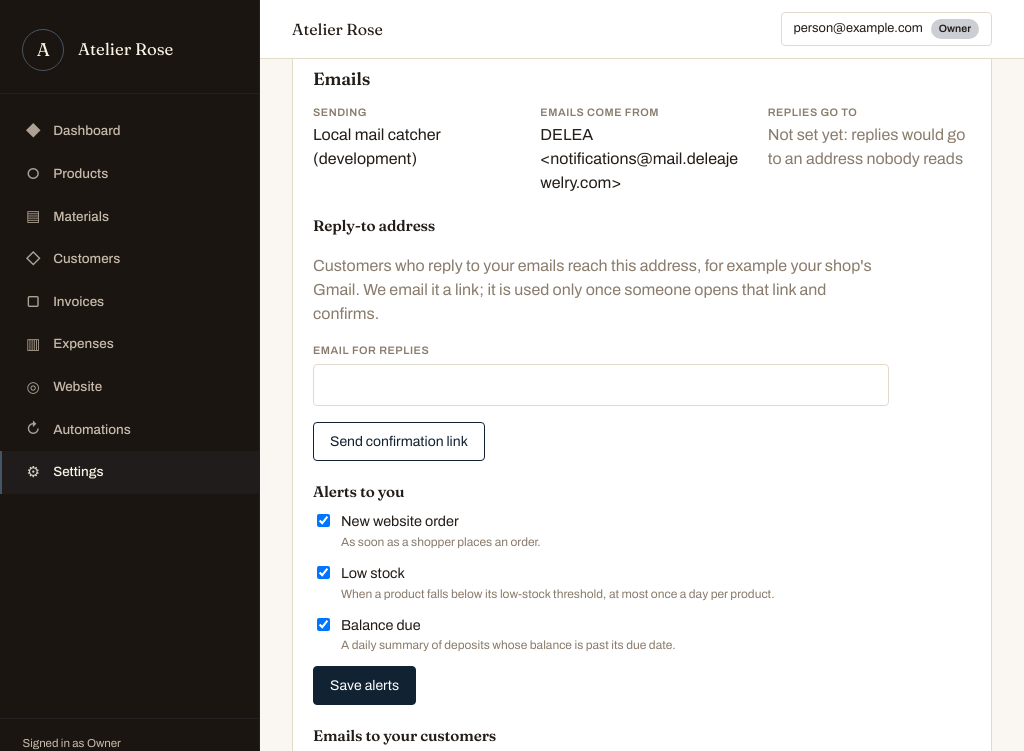
Test: settings › emails › asks for a reply-to address: checked first, then a confirmation link, shown as waiting
(page scrolled)
In the field labelled "Email for replies": (601,384) [313,364,889,406], type "not-an-email"
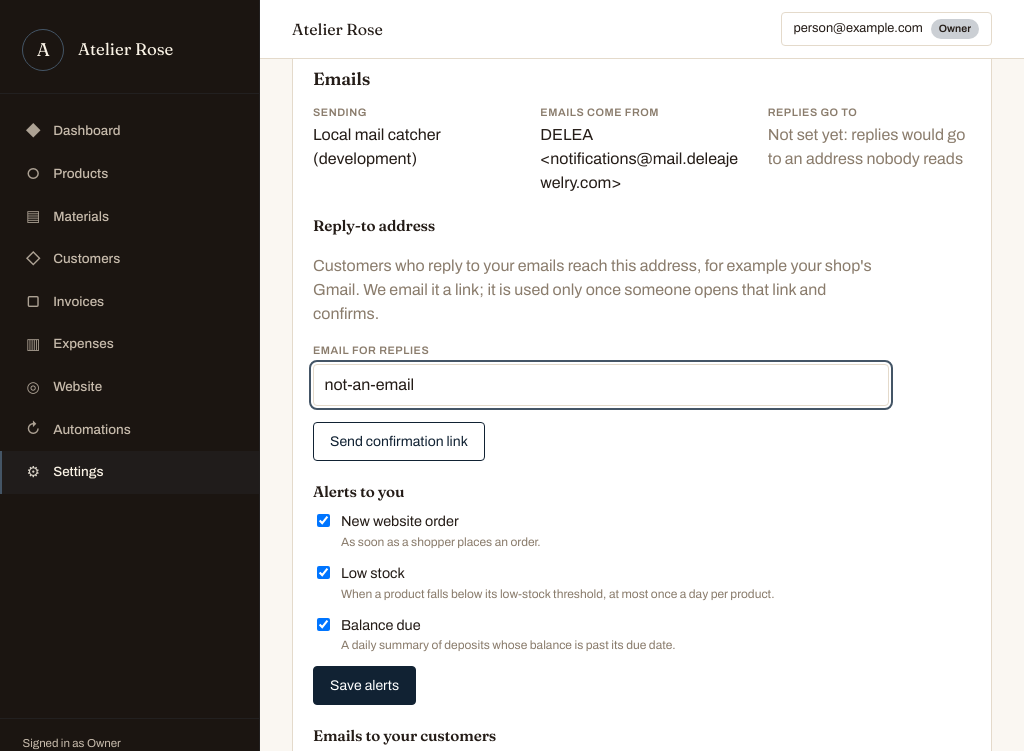
Click the button "Send confirmation link": (399,441) [313,422,485,460]
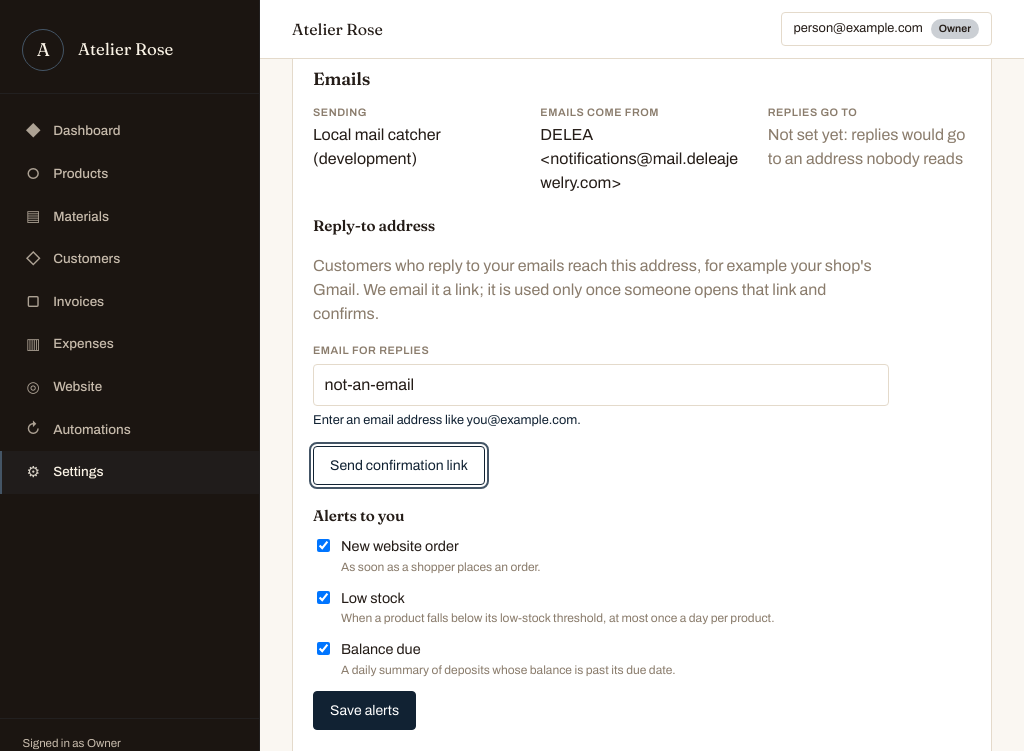
Check: the text "Enter an email address like you@example.com." is shown, box [313,413,581,427]
Replace the text in the field labelled "Email for replies" with "shop@gmail.com": (601,384) [313,364,889,406]
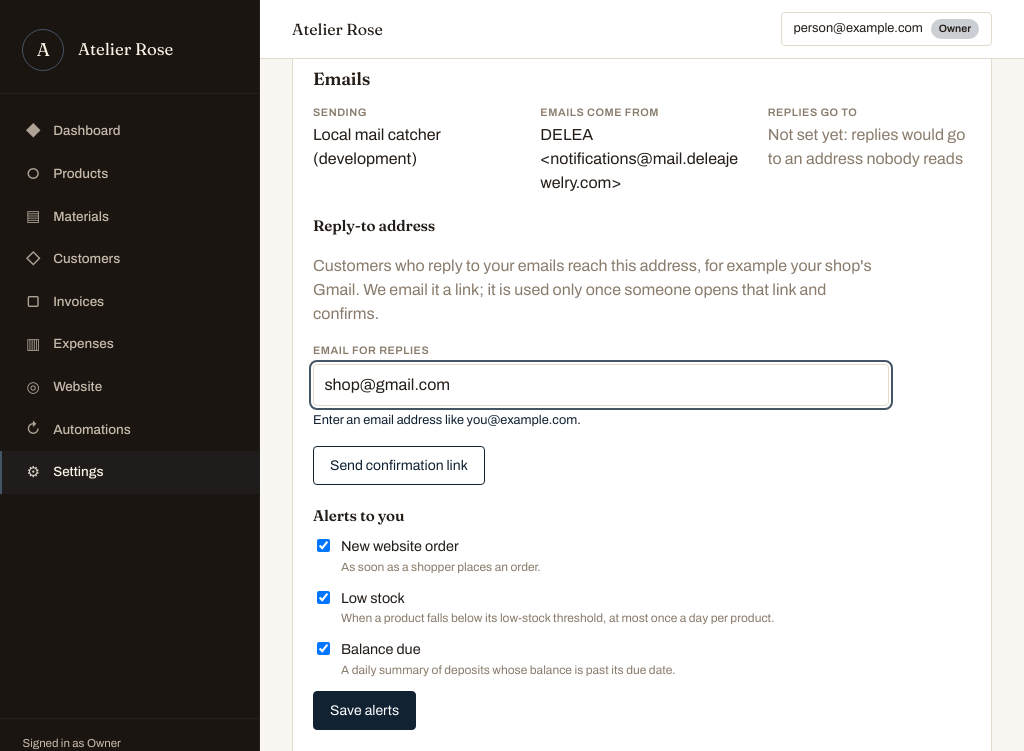
Click the button "Send confirmation link": (399,466) [313,446,485,485]
(page scrolled)
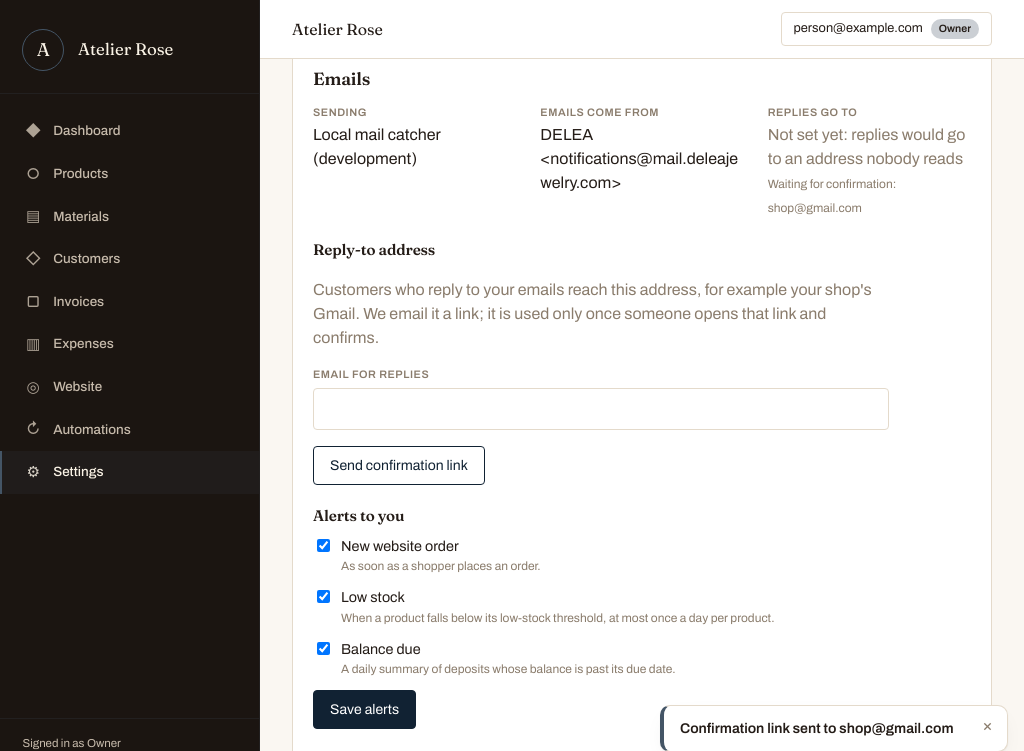
Check: the text "Confirmation link sent to shop@gmail.com" is shown, box [680,718,971,739]
Check: the text "Waiting for confirmation: shop@gmail.com" is shown, box [768,177,896,215]
